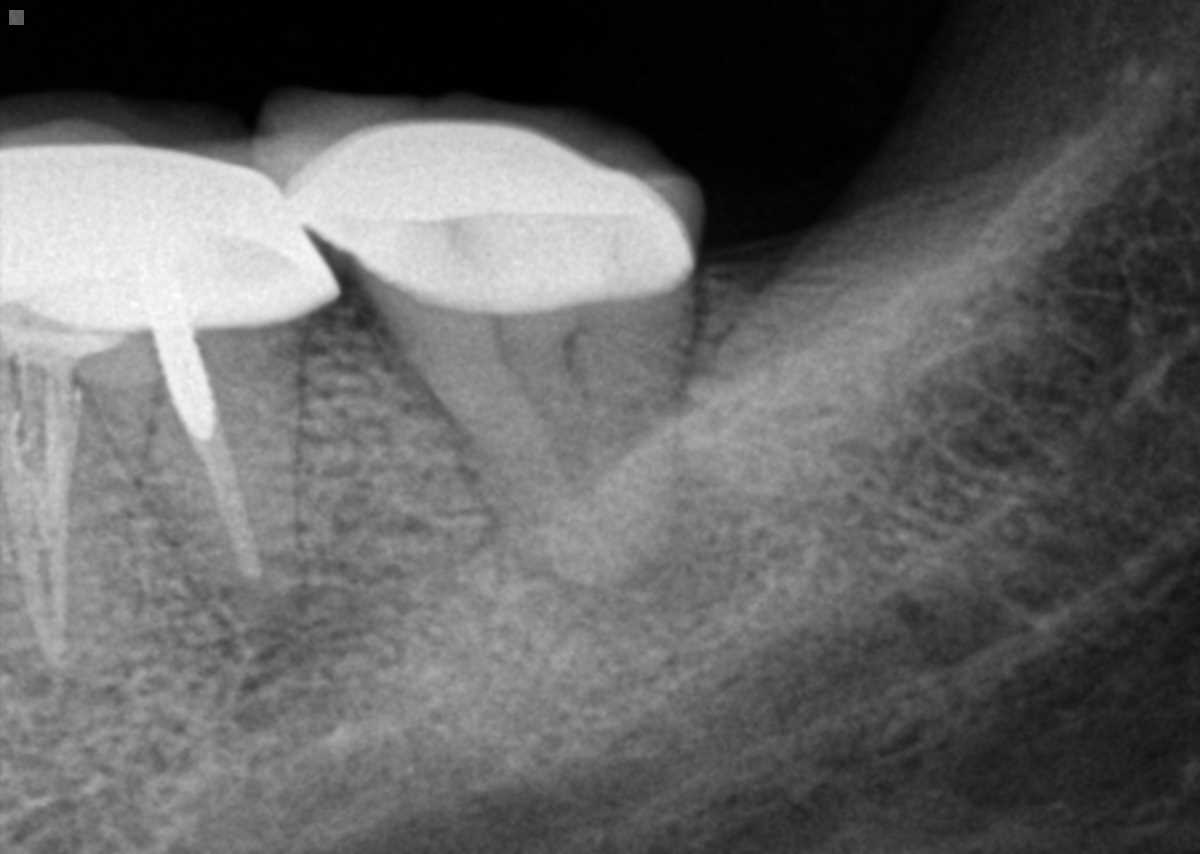Apical Lesion: (228, 547, 414, 744), (552, 463, 766, 629)
Distal Root: (86, 351, 310, 644)
Main Canal: (551, 405, 648, 568)
Main Root: (377, 300, 693, 587)
Mesial Root: (0, 369, 160, 684)
Root Canal Filling: (0, 362, 84, 653)
